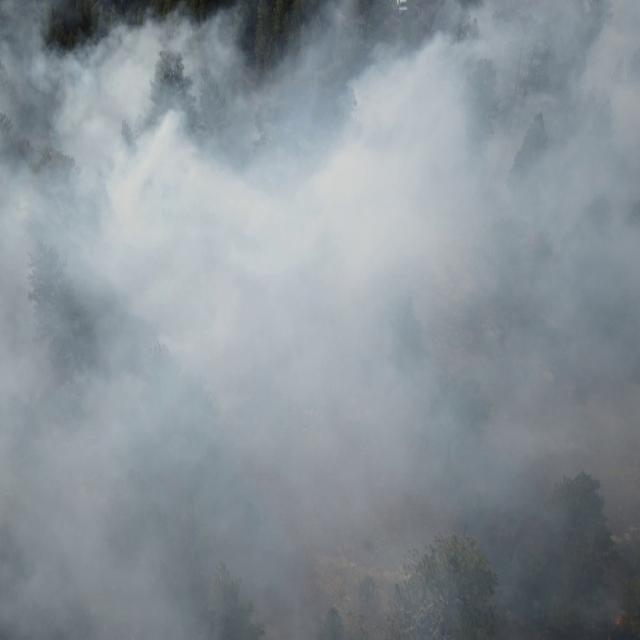fire: (612, 612, 624, 628)
smoke: (0, 0, 640, 640)
